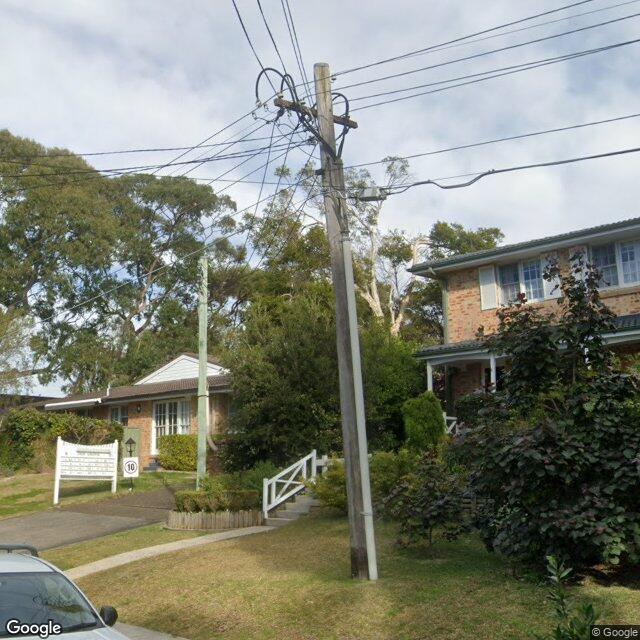crossarm: (274, 96, 358, 130)
timber-pole: (313, 62, 377, 581), (196, 255, 209, 490)
